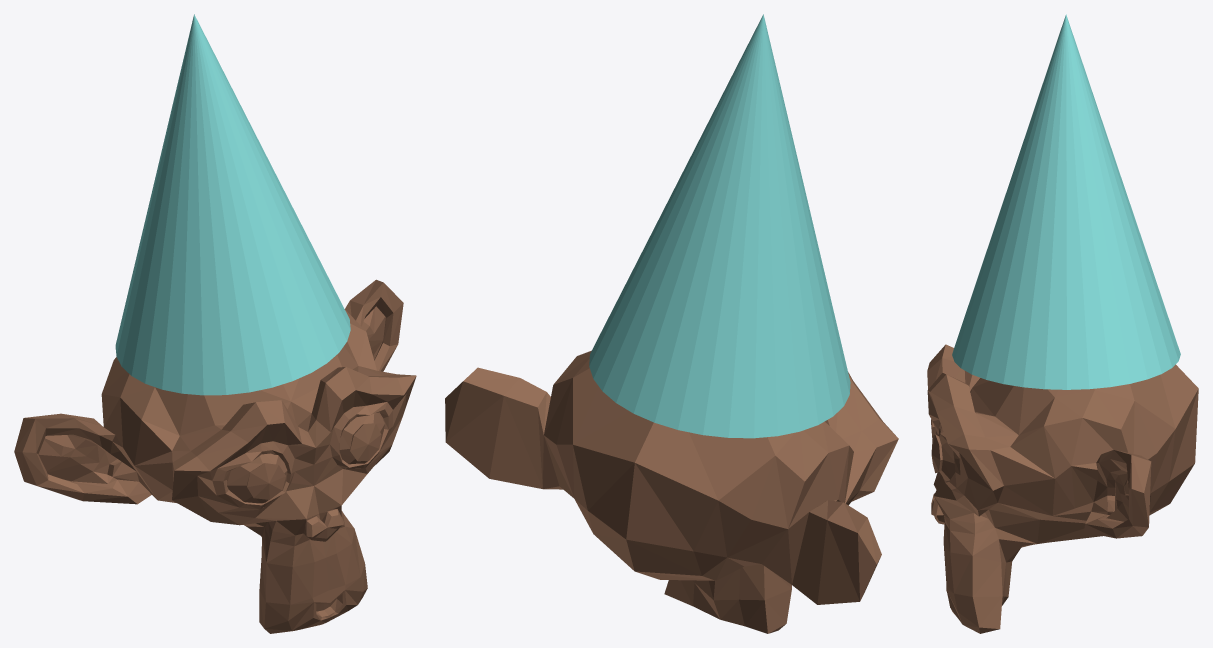
File: monkey.glb
3 renders of one model, left to right at view 1: azimuth 30°, elevation 25°; view 2: azimuth 150°, elevation 25°; view 3: azimuth 270°, elevation 25°, orthographic. The views are drawn at different scales.
Visible parts, largest first — view 1: Suzanne, Cone; view 2: Suzanne, Cone; view 3: Suzanne, Cone.
Part boxes in pixels (bbox=[...]): Suzanne: bbox=[14, 279, 416, 633]; Cone: bbox=[115, 14, 350, 395]; Suzanne: bbox=[445, 350, 898, 633]; Cone: bbox=[589, 14, 850, 438]; Suzanne: bbox=[927, 344, 1198, 633]; Cone: bbox=[952, 14, 1180, 389].
Size of the model in its own units: 2.71 by 3.98 by 1.7.
